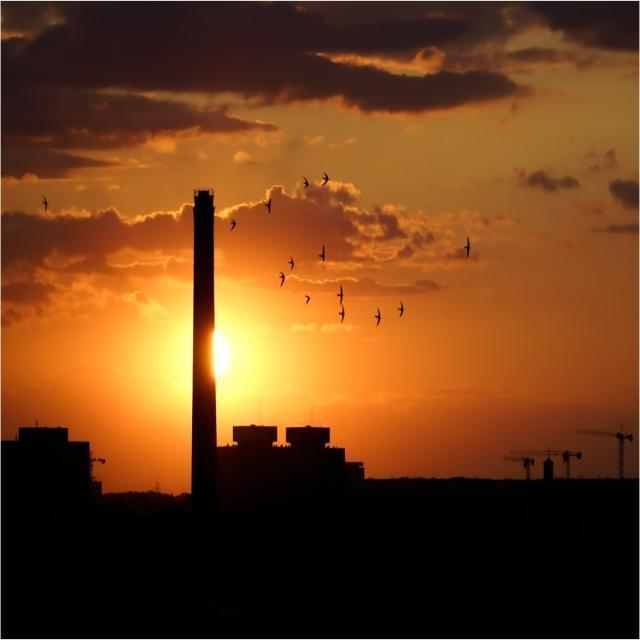bird: (461, 232, 478, 266), (313, 240, 330, 268), (260, 192, 278, 217), (371, 305, 386, 330), (392, 300, 410, 320), (333, 306, 351, 326), (316, 165, 331, 188), (334, 280, 347, 304), (36, 195, 52, 214), (301, 172, 314, 195), (279, 265, 289, 289), (288, 254, 301, 272), (302, 290, 316, 306), (227, 218, 241, 232)
